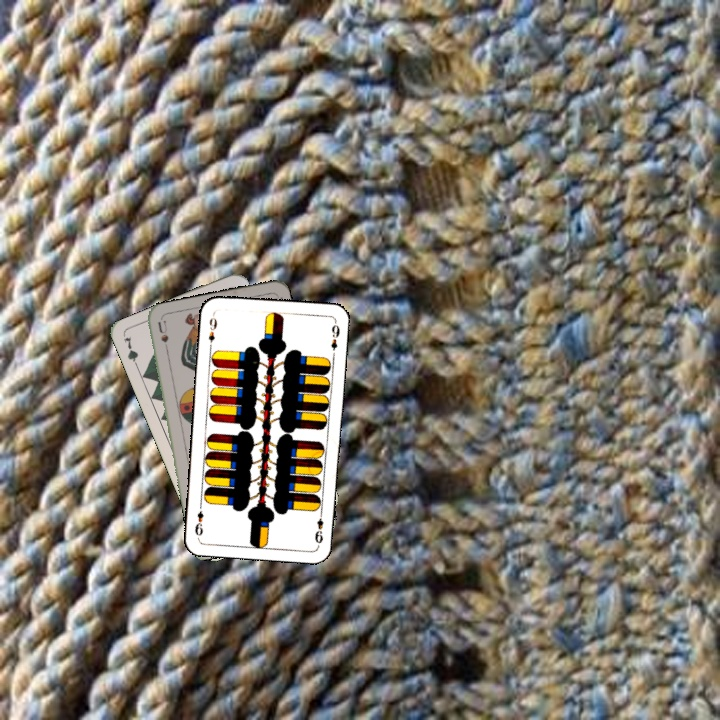E9: (204, 310, 220, 351), (311, 507, 326, 547)
G7: (120, 332, 142, 372)
SU: (154, 317, 172, 358)
